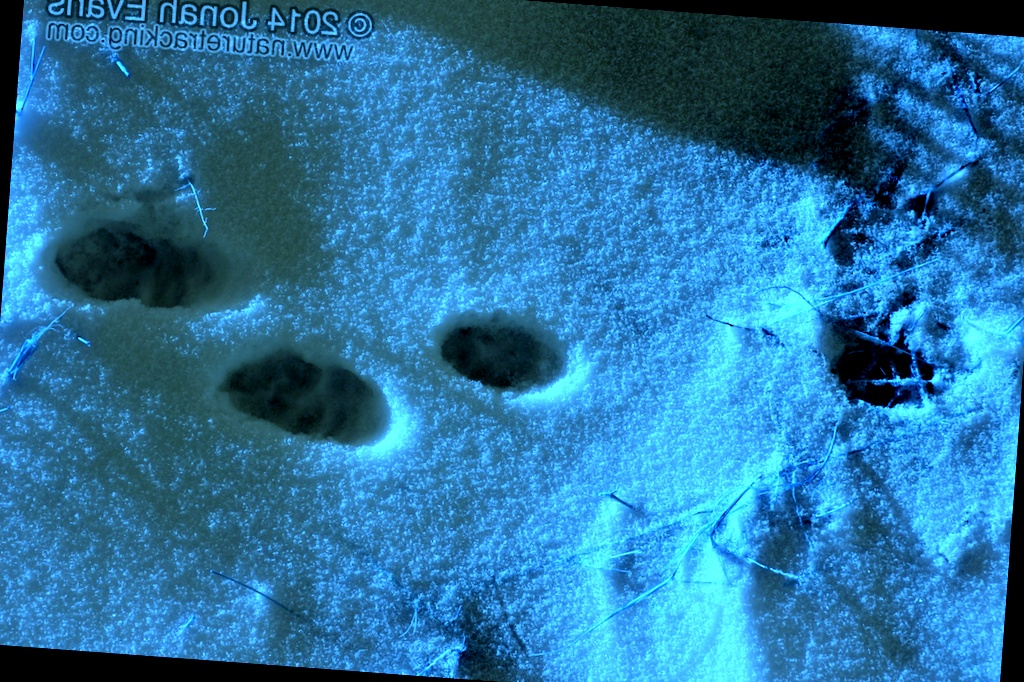lapin: (605, 348, 827, 468), (795, 237, 996, 345), (442, 296, 597, 409)
